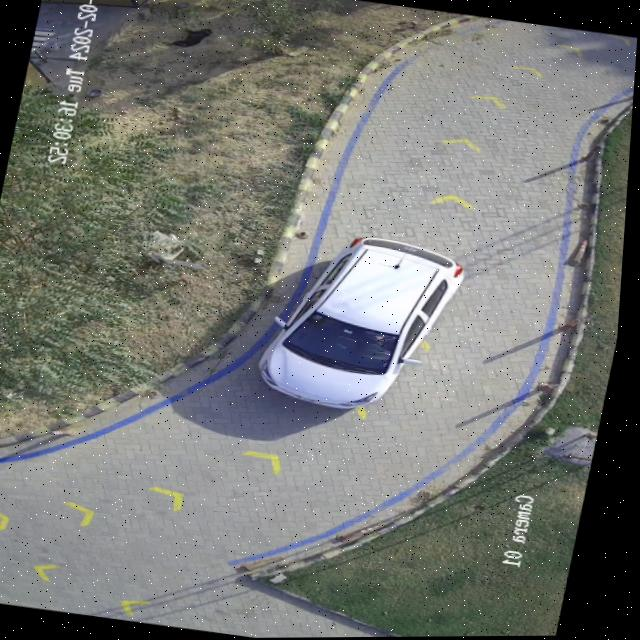car: (267, 238, 464, 408)
